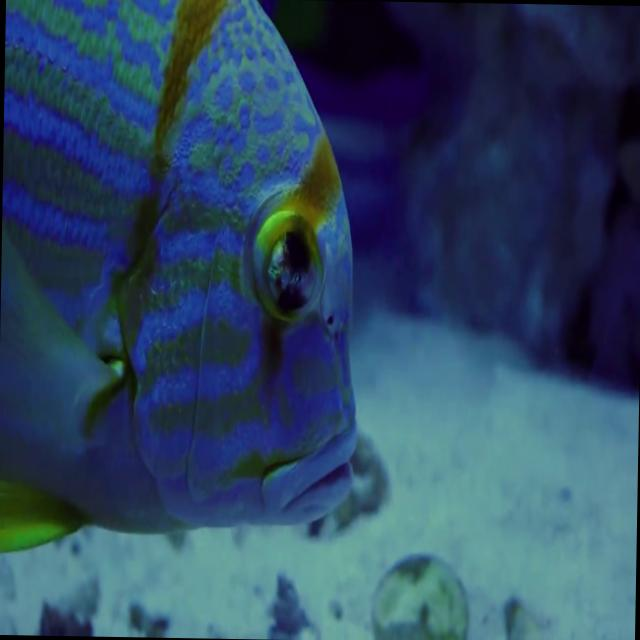fish: (0, 0, 361, 543)
